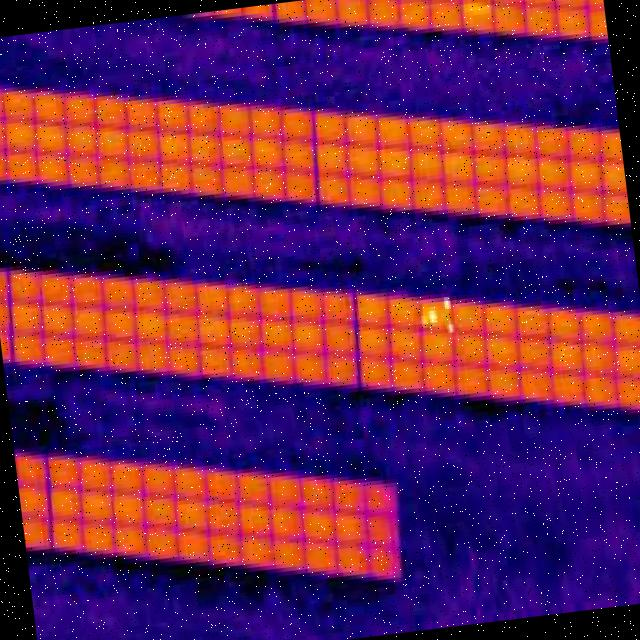Hotspot: (428, 310, 436, 327), (421, 315, 428, 328), (446, 319, 453, 332), (444, 300, 451, 309)
